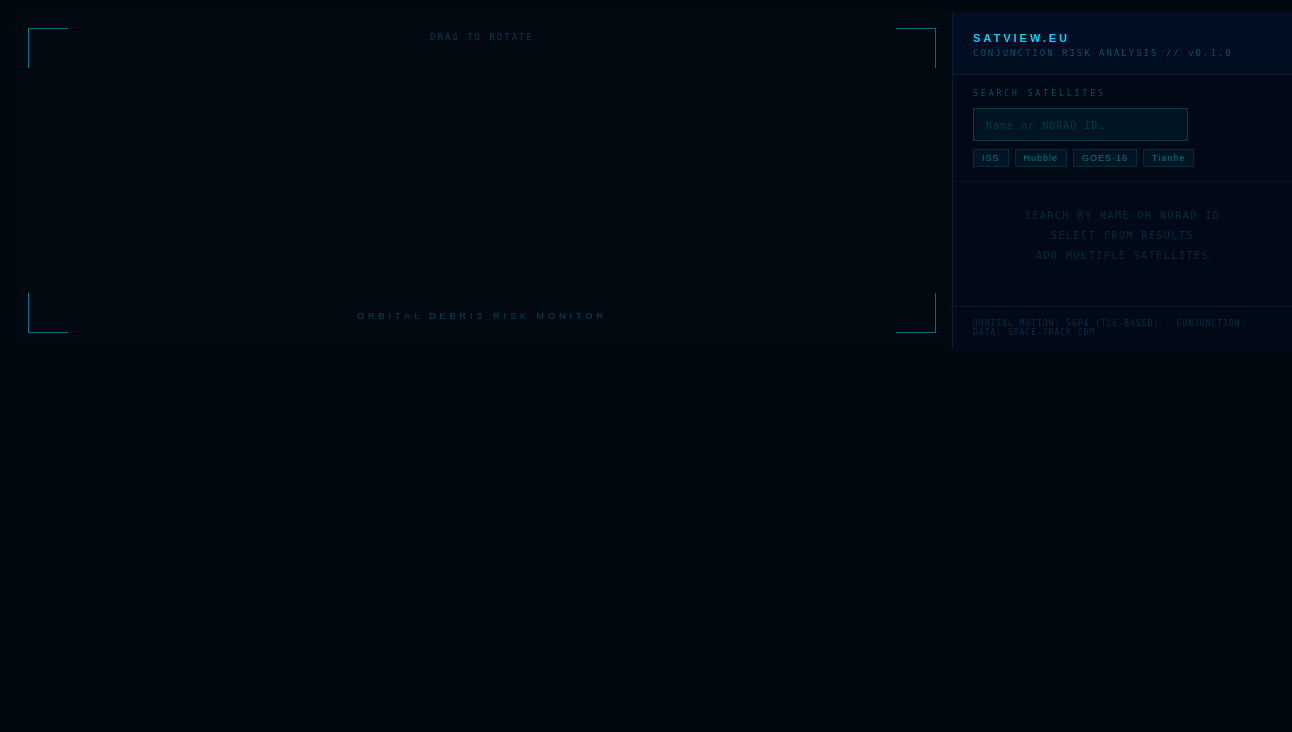
loadAndTrack error handling › shows guest limit CTA when guest quota is exhausted while loading a satellite
Type "r2" into the field with placeholder "Name or NORAD ID…" at {"x": 1080, "y": 124}, box x1=973 y1=108 x2=1188 y2=141
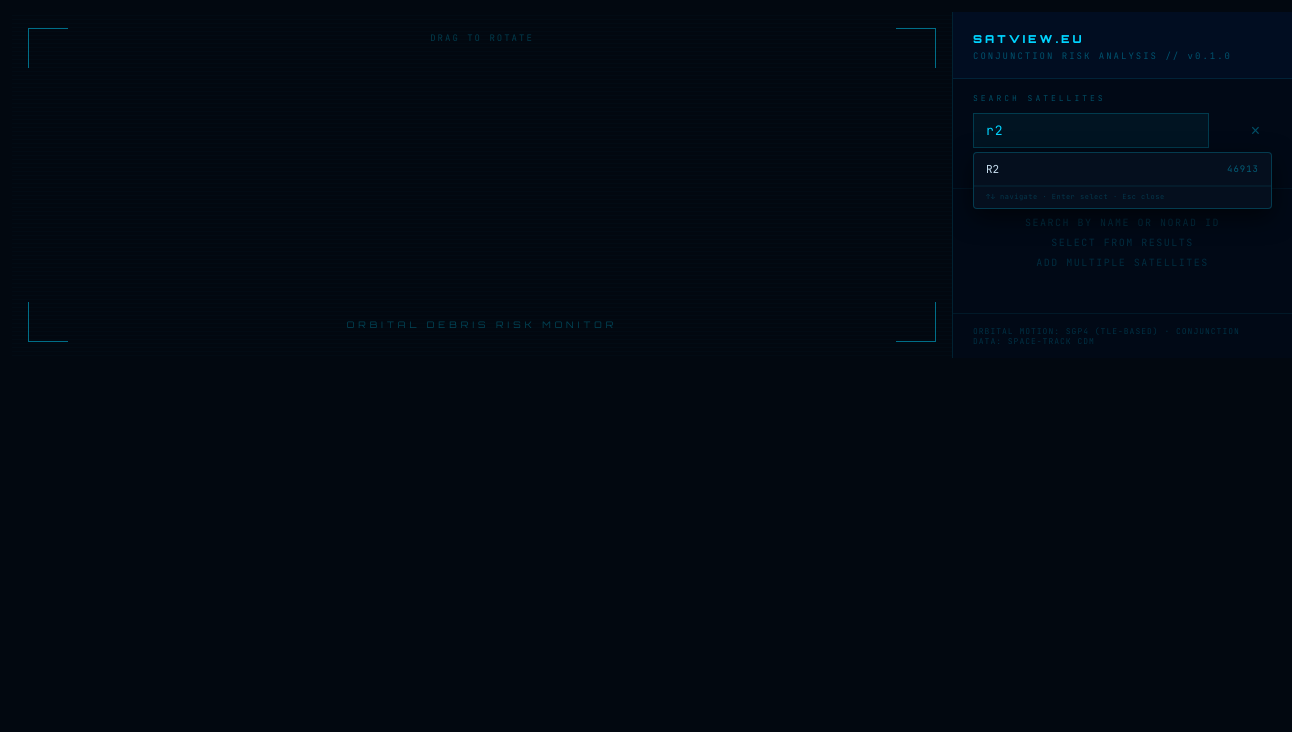
Click the option "R2 46913" at {"x": 1243, "y": 169}, box x1=974 y1=153 x2=1271 y2=186
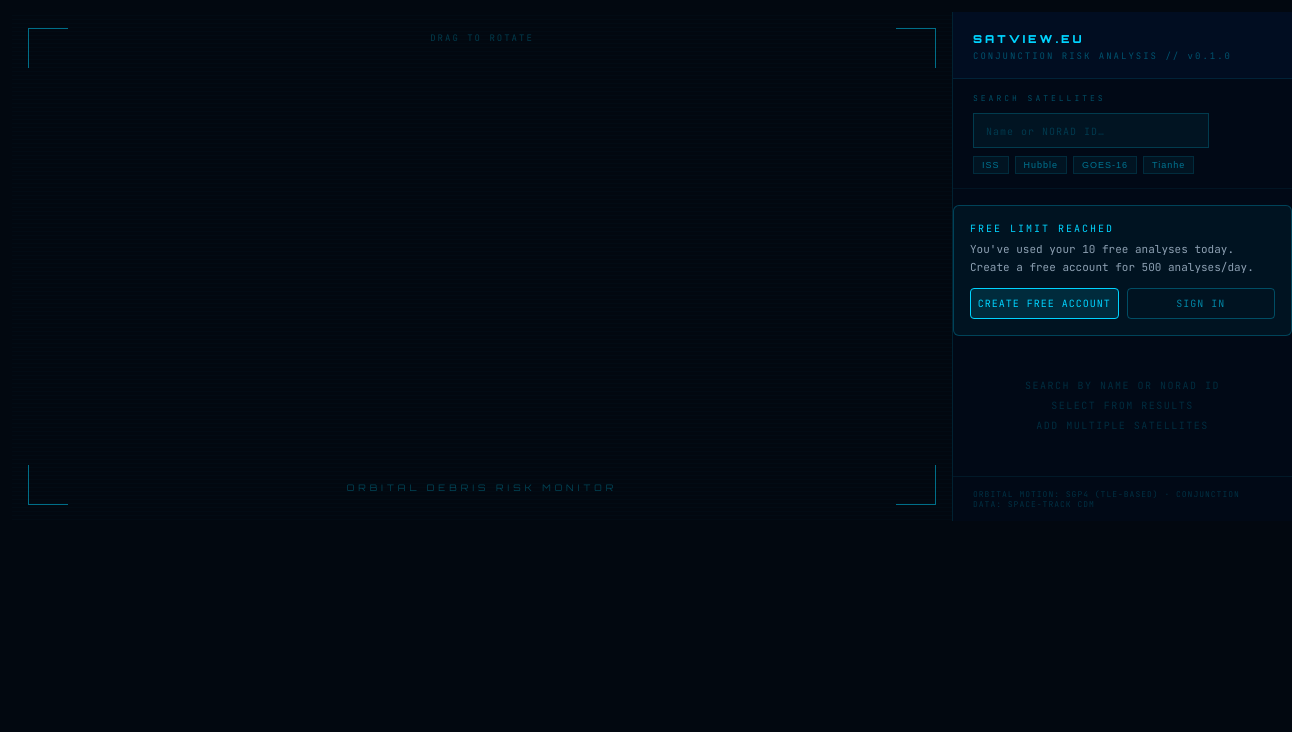
Check: the text "FREE LIMIT REACHED" is shown, box x1=970 y1=222 x2=1114 y2=235
